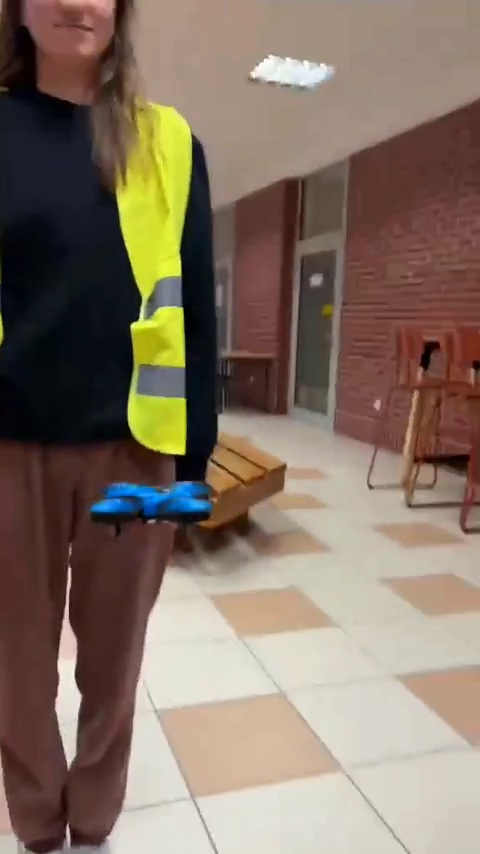drone: (89, 473, 216, 542)
vest: (0, 63, 221, 836)
